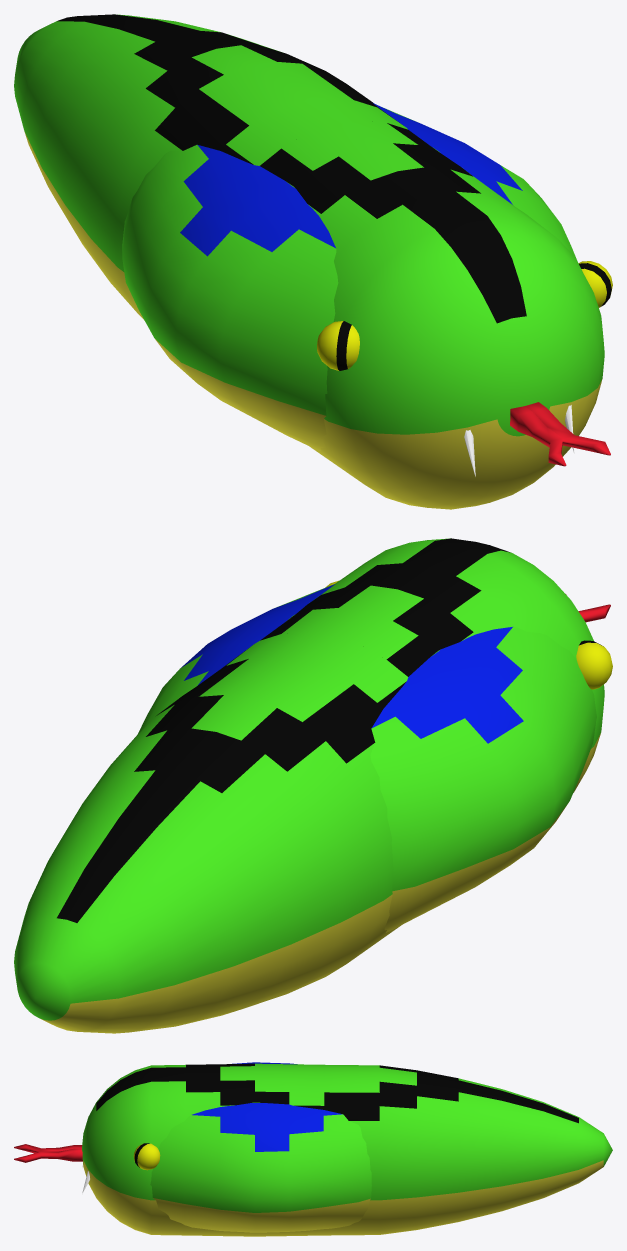
The model's file is Snake.fbx.
The picture shows the model from 3 angles, top to bottom: view 1: azimuth 30°, elevation 25°; view 2: azimuth 150°, elevation 25°; view 3: azimuth 270°, elevation 25°; orthographic projection. The views are drawn at different scales.
Parts seen in each view (by area): view 1: Snake Body, Snake Head 1, Snake Tail; view 2: Snake Tail, Snake Head 1, Snake Body; view 3: Snake Tail, Snake Head 1, Snake Body.
Part boxes in pixels (bbox=[...]): Snake Body: bbox=[260, 121, 604, 509]; Snake Head 1: bbox=[122, 103, 612, 476]; Snake Tail: bbox=[14, 14, 407, 320]; Snake Tail: bbox=[14, 632, 408, 1033]; Snake Head 1: bbox=[138, 580, 612, 932]; Snake Body: bbox=[260, 538, 604, 792]; Snake Tail: bbox=[289, 1064, 612, 1235]; Snake Head 1: bbox=[14, 1062, 371, 1232]; Snake Body: bbox=[82, 1063, 289, 1236].
Size of the model in its own units: 275 by 200 by 692.
